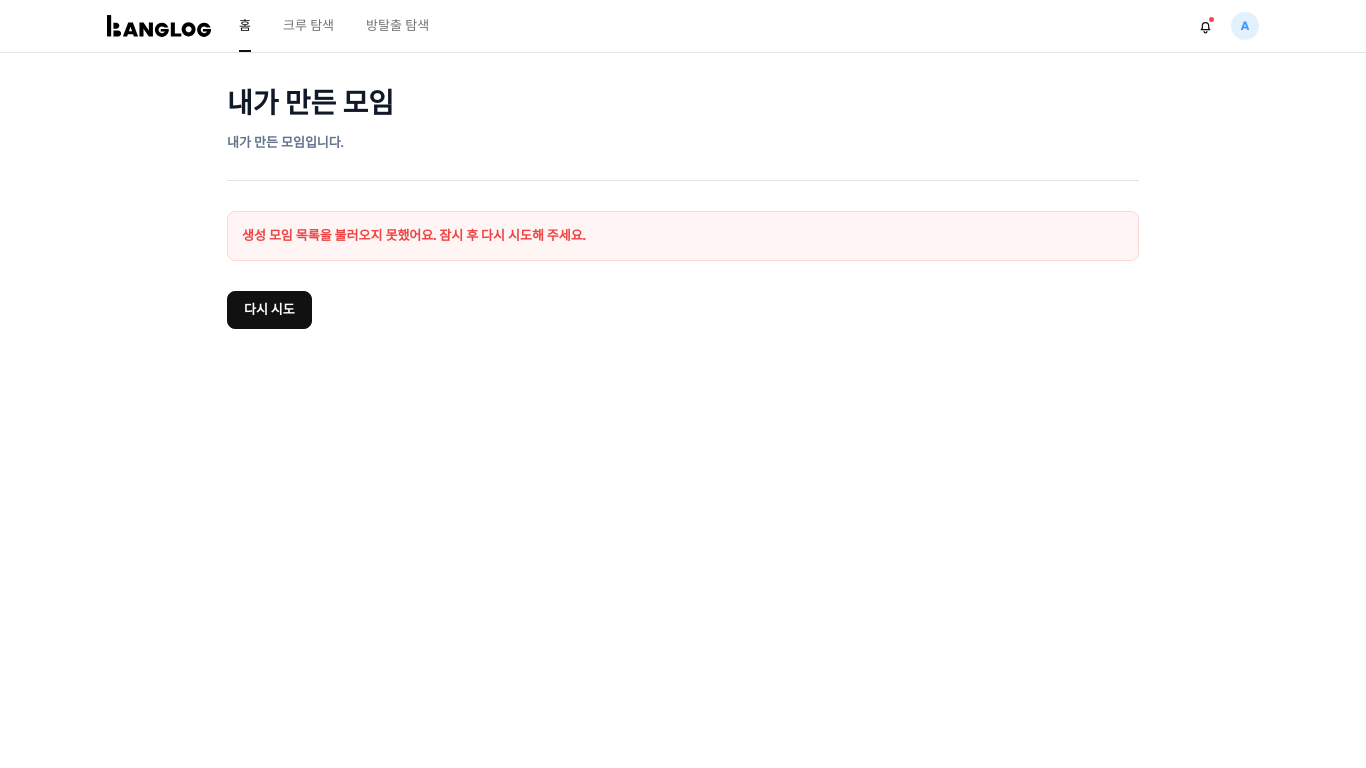
Scenario: CreatedMeetingsProfilePage › shows an error with a retry affordance when the first load fails
expect the text "생성 모임 목록을 불러오지 못했어요. 잠시 후 다시 시도해 주세요." is shown: met, box [227,211,1139,261]
Click the button "다시 시도": click(269, 310) [227,291,312,329]
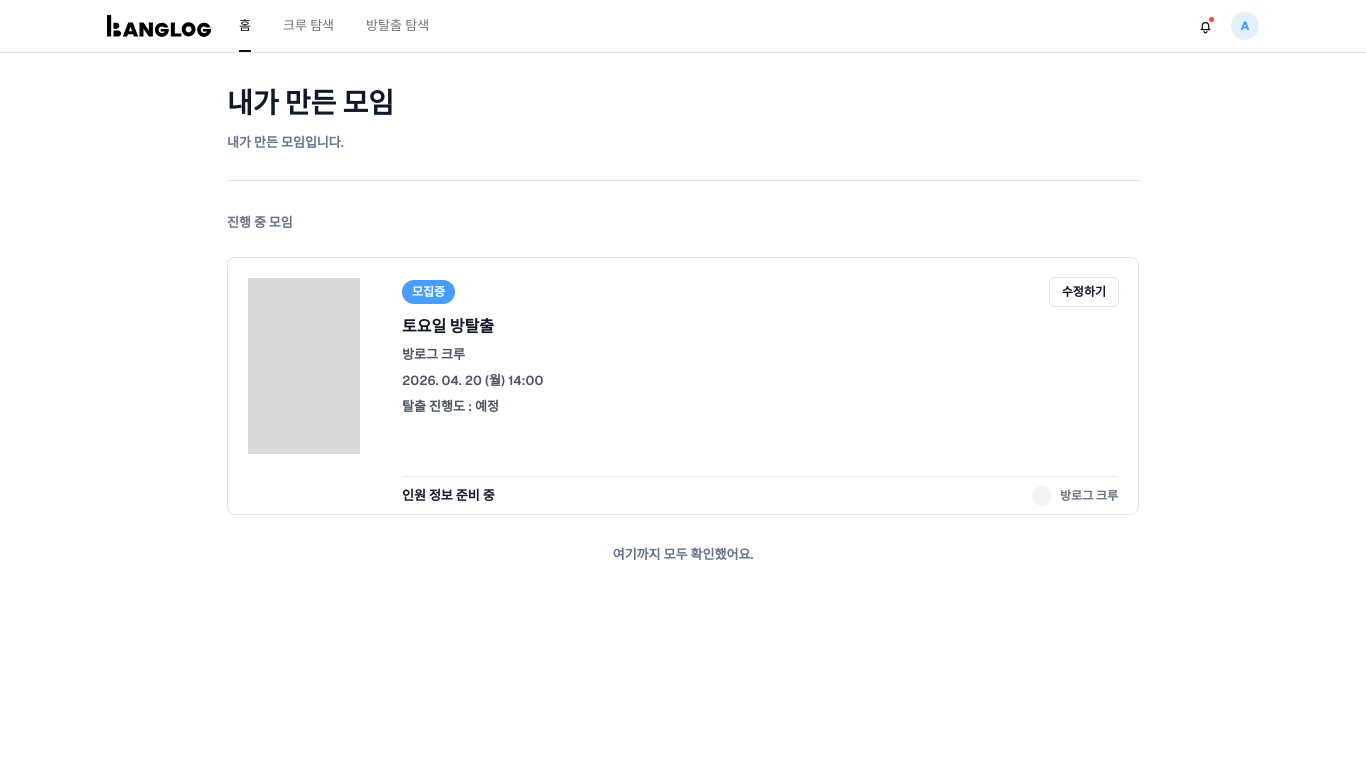
expect the link "토요일 방탈출" is shown: met, box [227,257,1139,515]
